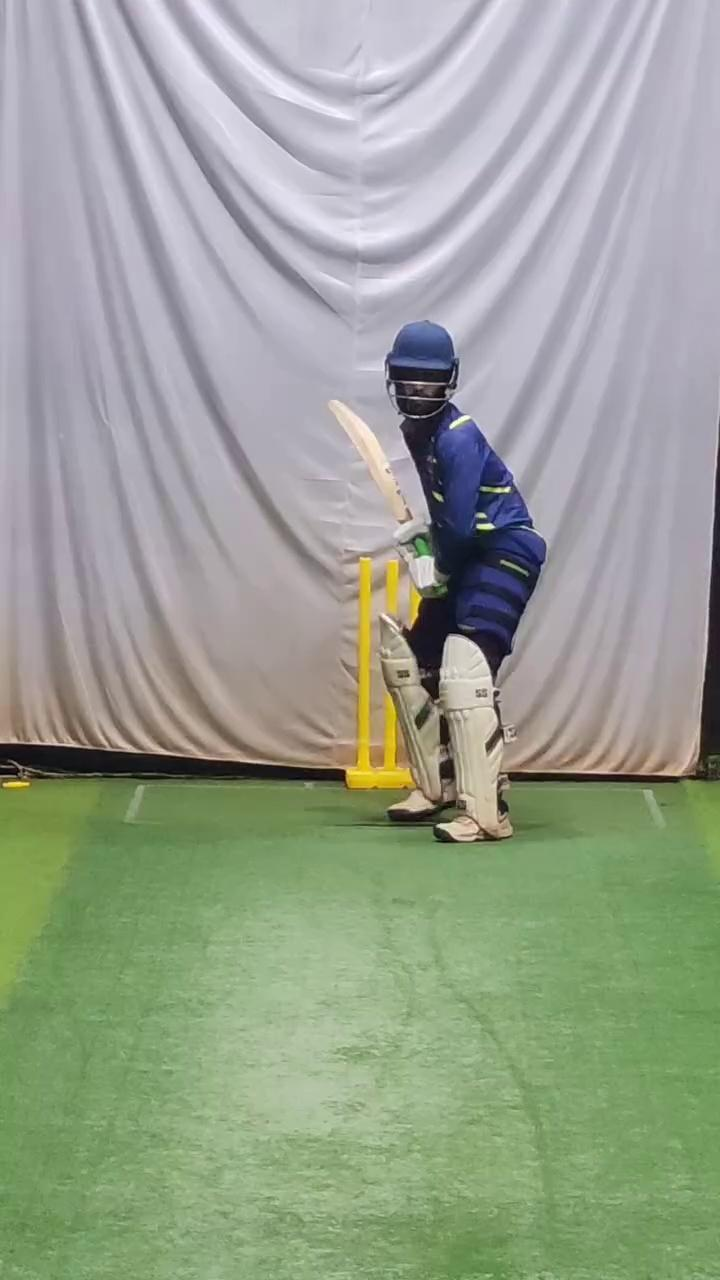bat: (323, 387, 417, 532)
